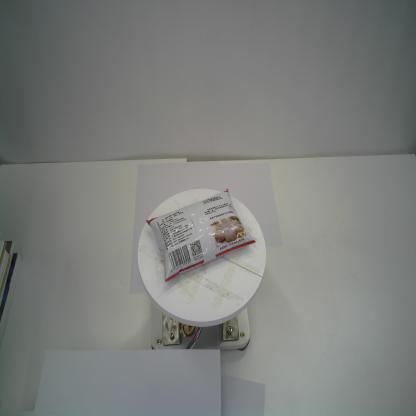Seasoner: (145, 186, 258, 284)
